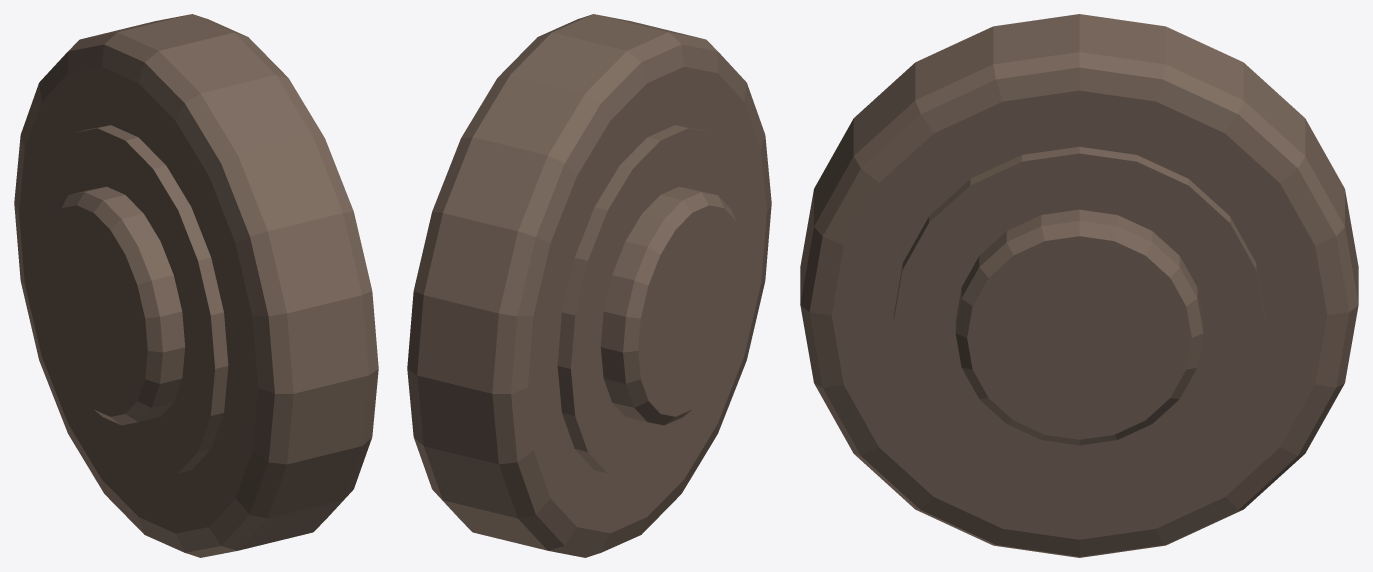
Rendered from Cannon_Wheel.fbx.
The picture shows the model from 3 angles, left to right: view 1: azimuth 30°, elevation 25°; view 2: azimuth 150°, elevation 25°; view 3: azimuth 270°, elevation 25°; orthographic projection. The views are drawn at different scales.
Parts seen in each view (by area): view 1: Wheel; view 2: Wheel; view 3: Wheel.
Part boxes in pixels (<box>): Wheel: <box>14,14,378,557</box>; Wheel: <box>407,14,771,557</box>; Wheel: <box>800,14,1358,557</box>.
Bounding box in the file's own units: 7.35 × 16.68 × 16.68.
